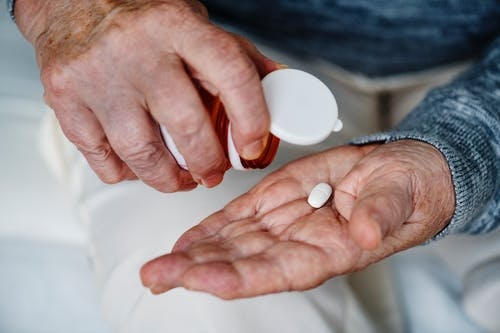pills: (304, 183, 334, 210)
